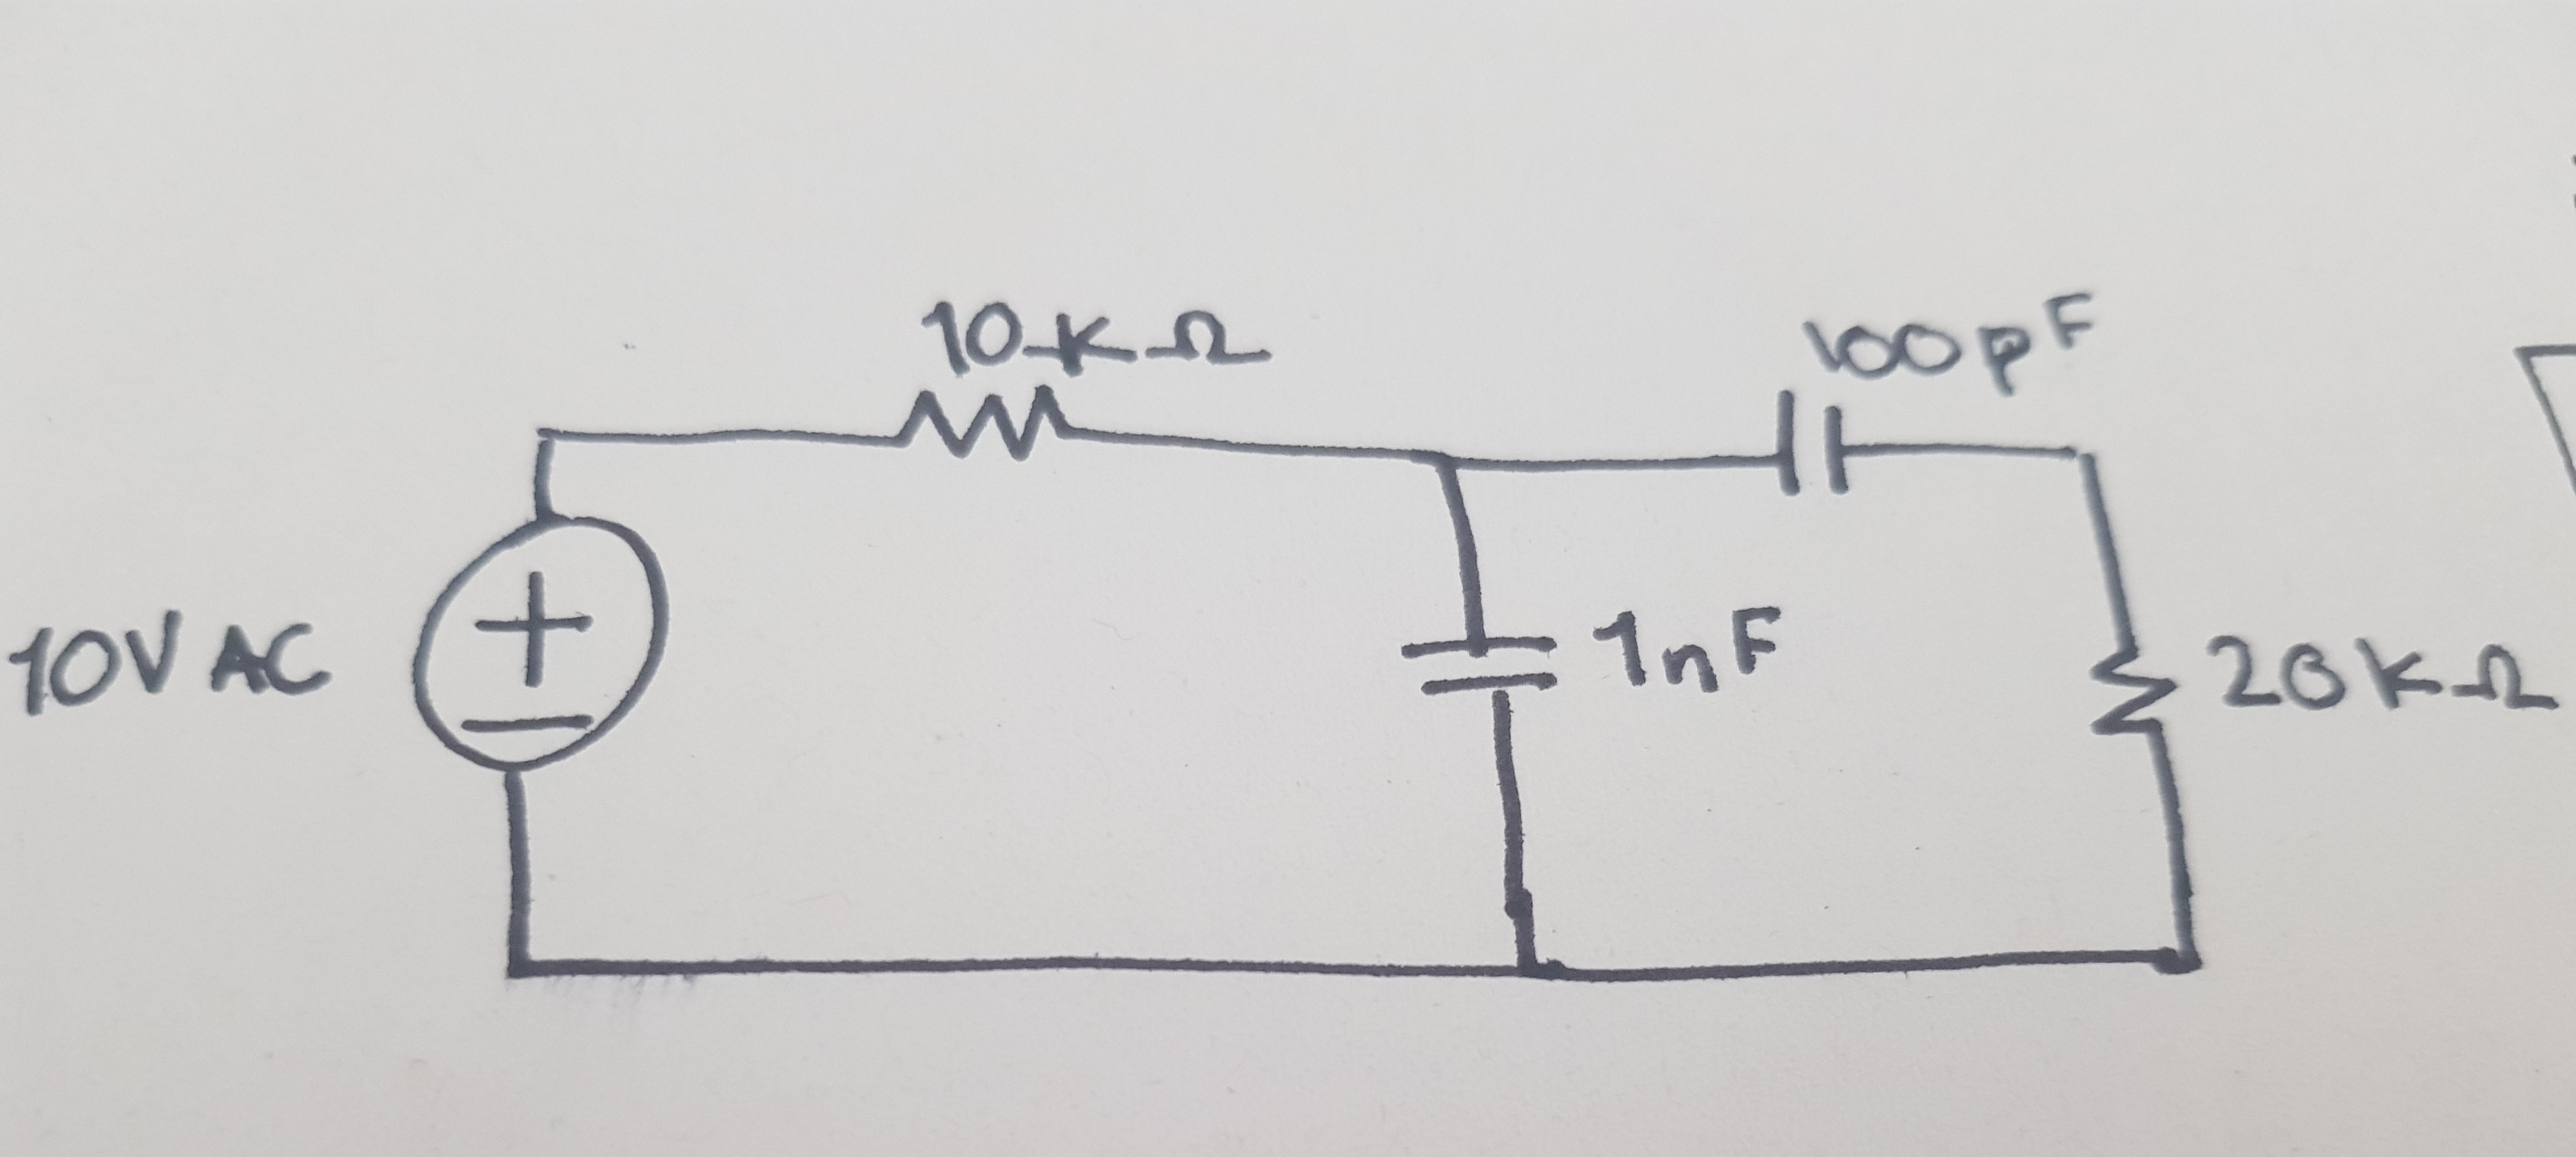capacitor.unpolarized: (1390, 608, 1572, 723), (1743, 383, 1878, 516)
junction: (475, 927, 575, 1007), (2040, 429, 2132, 500), (1487, 933, 1574, 1007), (2142, 924, 2226, 998), (1410, 434, 1497, 491), (514, 408, 572, 459)
resistor: (890, 380, 1078, 472), (2078, 620, 2188, 769)
text: (0, 606, 348, 720), (1789, 284, 2103, 399), (2201, 625, 2564, 723), (913, 289, 1273, 375), (1589, 600, 1801, 712)
voltage.dc: (388, 519, 675, 777)
